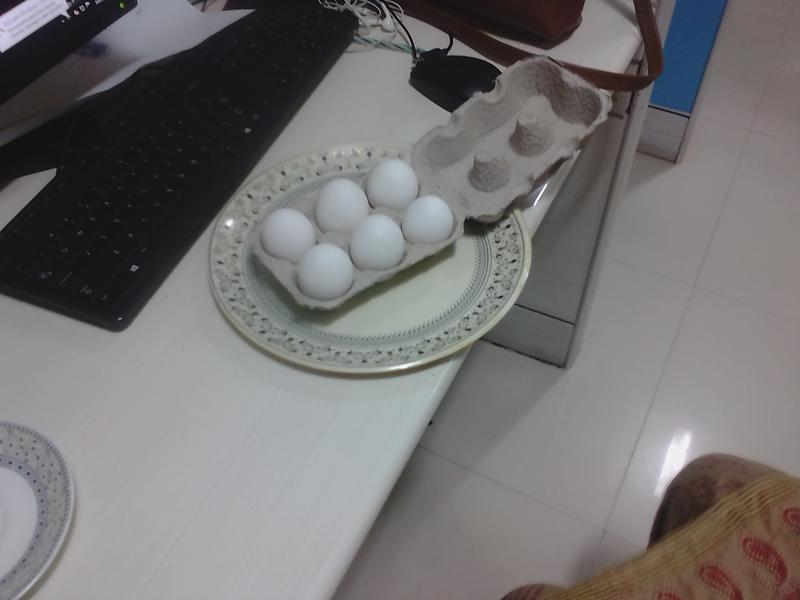egg: (299, 238, 358, 304)
